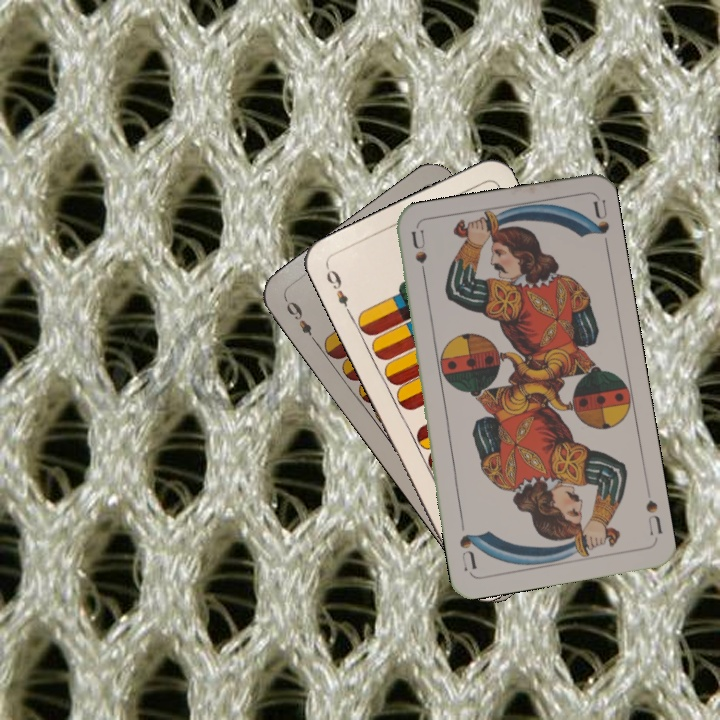E9: (281, 294, 320, 347), (322, 263, 354, 318)
SU: (407, 227, 430, 287), (641, 496, 665, 538)
